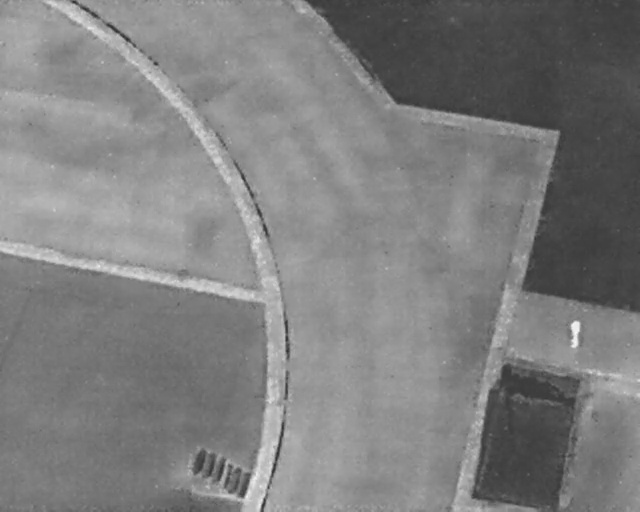Person: (567, 319, 582, 349)
